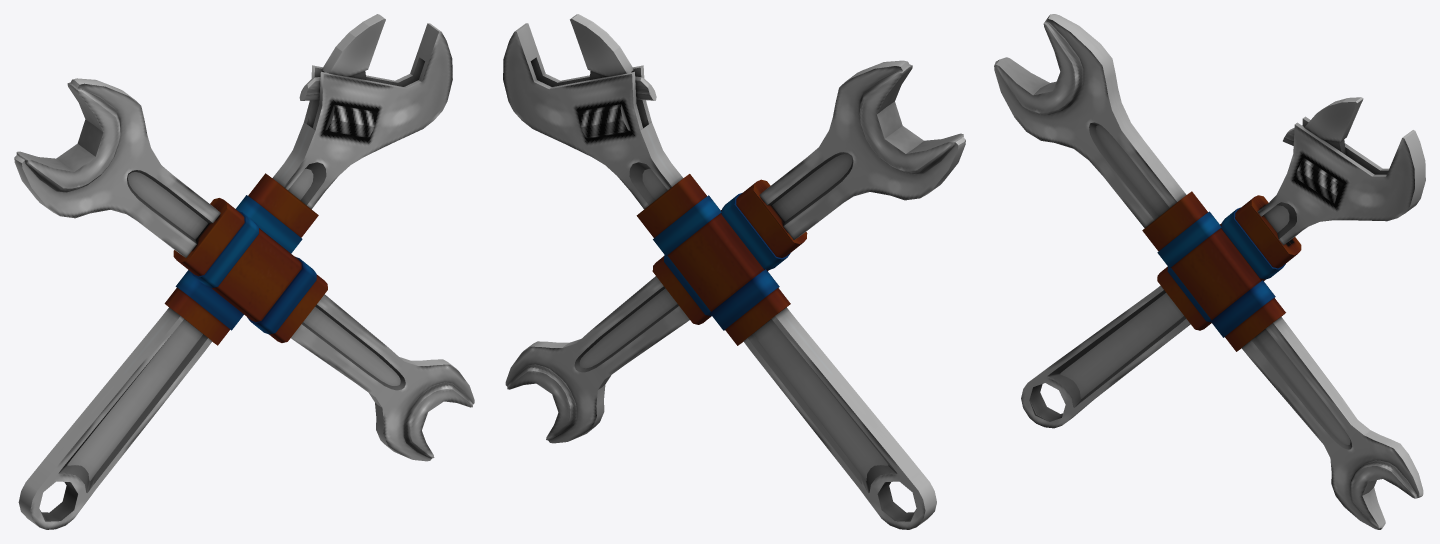
The model's file is wrench.glb.
3 views of the same model, side by side, from view 1: azimuth 30°, elevation 25°; view 2: azimuth 150°, elevation 25°; view 3: azimuth 330°, elevation 25° (orthographic). The views are drawn at different scales.
Visible parts, largest first — view 1: Mesh; view 2: Mesh; view 3: Mesh.
Boxes of the visible parts, x1,y1,x2,y2 form: Mesh: (14, 14, 474, 529); Mesh: (503, 14, 965, 529); Mesh: (994, 14, 1425, 529).
Size of the model in its own units: 80.53 by 78.39 by 9.34.
1 material, 1 textured.
